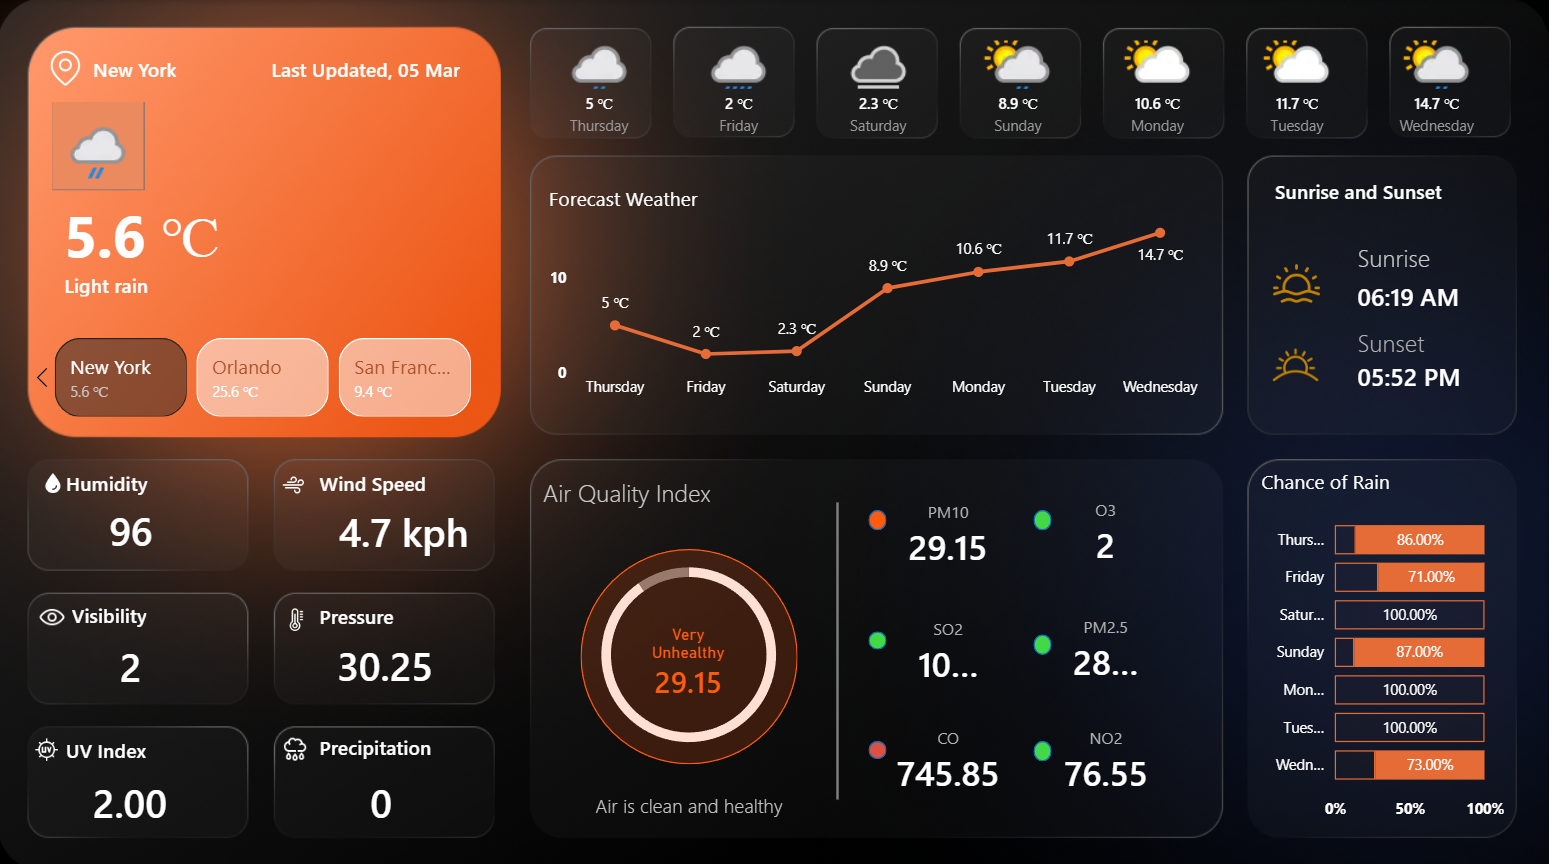

Layout of this report page (visuals, bound fields, positions):
{"tool":"powerbi","page":{"name":"Page 1","canvas":[1280,720],"ordinal":0},"visuals":[{"type":"donutChart","fields":{"Y":["_Measures.Left_value_PM10","Sum(Current.current.air_quality.pm10)"]},"box":[474.1,436.4,190,205.7],"z":0},{"type":"shape","box":[480.4,452.1,179,177.4],"z":1000},{"type":"advancedSlicerVisual","fields":{"Values":["Locations.location.name"]},"box":[22.7,272.6,393.7,75.7],"z":2000},{"type":"shape","box":[55.8,160.9,173.7,62.1],"z":3000},{"type":"shape","box":[55.8,223.1,210.3,20.7],"z":4000},{"type":"shape","box":[78.6,45.7,117.1,20],"z":5000},{"type":"image","box":[41.5,27.1,28.7,57.4],"z":6000},{"type":"shape","box":[225.7,45.7,174.3,20],"z":7000},{"type":"cardVisual","fields":{"Data":["Min(Current.current.condition.icon)"]},"box":[45.7,84.3,75.7,72.9],"z":8000},{"type":"image","box":[33.3,492.7,24,30.2],"z":9000},{"type":"shape","box":[61.5,492.7,64.6,27.1],"z":10000},{"type":"shape","box":[266,494,65,27],"z":11000},{"type":"shape","box":[266,602,95,27],"z":12000},{"type":"shape","box":[266,385,95,24],"z":13000},{"type":"shape","box":[57.3,384.4,72.9,27.1],"z":14000},{"type":"shape","box":[56.2,604.2,72.9,27.1],"z":15000},{"type":"image","box":[36.5,386.5,17.7,22.9],"z":16000},{"type":"image","box":[234.4,385.4,18.8,28.1],"z":17000},{"type":"image","box":[237.5,500,18.8,19.8],"z":18000},{"type":"image","box":[31,604,20,27],"z":19000},{"type":"image","box":[234,606,24,23],"z":20000},{"type":"advancedSlicerVisual","fields":{"Values":["Forcast_Day.Day_Name"]},"box":[437.1,27.1,810,102.9],"z":21000},{"type":"lineChart","title":"Forecast Weather","fields":{"Y":["Sum(Forcast_Day.forecast.forecastday.day.avgtemp_c)"],"Category":["Forcast_Day.Day_Name"]},"box":[450,151.7,550,185],"z":22000},{"type":"shape","box":[1052.4,140.8,165,31.8],"z":23000},{"type":"cardVisual","fields":{"Data":["Sum(Current.current.humidity)"]},"box":[75,414.8,105,41.6],"z":24000},{"type":"cardVisual","fields":{"Data":["_Measures.Wind_Speed"]},"box":[264.9,409.8,146.6,53.3],"z":25000},{"type":"cardVisual","fields":{"Data":["Sum(Current.current.vis_km)"]},"box":[83.7,522.8,77.4,50.5],"z":26000},{"type":"cardVisual","fields":{"Data":["Sum(Current.current.pressure_in)"]},"box":[263.2,523.1,118.3,50],"z":27000},{"type":"cardVisual","fields":{"Data":["Sum(Current.current.uv)"]},"box":[61.6,634.7,118.3,50],"z":28000},{"type":"cardVisual","fields":{"Data":["Sum(Current.current.precip_mm)"]},"box":[290.6,635,69.5,49],"z":29000},{"type":"shape","box":[1121.2,223.2,96.6,41.6],"z":30000},{"type":"shape","box":[1121.2,291.5,96.6,36.7],"z":31000},{"type":"shape","box":[1121.2,191.6,91.6,41.6],"z":32000},{"type":"shape","box":[1121.2,264.9,91.6,35],"z":33000},{"type":"image","box":[1037.3,275,65.6,50],"z":34000},{"type":"image","box":[1048.3,214,45.3,39.1],"z":35000},{"type":"hundredPercentStackedBarChart","title":"Chance of Rain","fields":{"Y":["Current.Left_value_Rain","Sum(Forcast_Day.forecast.forecastday.day.daily_chance_of_rain)"],"Category":["Forcast_Day.Day_Name"]},"box":[1037.3,385.9,209.3,298.4],"z":36000},{"type":"shape","box":[449.9,384.3,165.6,42.2],"z":37000},{"type":"cardVisual","fields":{"Data":["Sum(Current.current.air_quality.pm10)"]},"box":[730,406.6,106.8,67.5],"z":38000},{"type":"cardVisual","fields":{"Data":["Sum(Current.current.air_quality.o3)"]},"box":[868.7,405.9,89.3,66.6],"z":39000},{"type":"cardVisual","fields":{"Data":["Sum(Current.current.air_quality.so2)"]},"box":[738.8,503.3,89.3,66.6],"z":40000},{"type":"cardVisual","fields":{"Data":["Sum(Current.current.air_quality.co)"]},"box":[717.7,592.6,131.5,66.6],"z":41000},{"type":"cardVisual","fields":{"Data":["Sum(Current.current.air_quality.pm2_5)"]},"box":[868.7,501.7,89.3,66.6],"z":42000},{"type":"cardVisual","fields":{"Data":["Sum(Current.current.air_quality.no2)"]},"box":[860.6,592.6,107.2,66.6],"z":43000},{"type":"shape","box":[718,419.6,14.9,16.8],"z":44000},{"type":"shape","box":[718,609.9,14.9,14.9],"z":45000},{"type":"shape","box":[718,520.3,14.9,14.9],"z":46000},{"type":"shape","box":[854.2,419.6,14.9,16.8],"z":47000},{"type":"shape","box":[854.2,609.9,14.9,16.8],"z":48000},{"type":"shape","box":[854.2,522.2,14.9,16.8],"z":49000},{"type":"shape","box":[667.2,414.5,50.2,244.9],"z":50000},{"type":"cardVisual","fields":{"Data":["Sum(Current.current.air_quality.pm10)"]},"box":[524.4,514.9,91.1,65.9],"z":51000},{"type":"shape","box":[465.7,642.9,208.6,41.4],"z":52000}]}

Visuals, with their boxes in screenshot pixels (x1, y1, x2, y2), scaled from the page's 1280x720 canvas onto the 1549x864 screenshot:
donutChart - _Measures.Left_value_PM10 x Sum(Current.current.air_quality.pm10): box(574, 524, 804, 771)
shape: box(581, 543, 798, 755)
advancedSlicerVisual - Locations.location.name: box(27, 327, 504, 418)
shape: box(68, 193, 278, 268)
shape: box(68, 268, 322, 293)
shape: box(95, 55, 237, 79)
image: box(50, 33, 85, 101)
shape: box(273, 55, 484, 79)
cardVisual - Min(Current.current.condition.icon): box(55, 101, 147, 189)
image: box(40, 591, 69, 627)
shape: box(74, 591, 153, 624)
shape: box(322, 593, 401, 625)
shape: box(322, 722, 437, 755)
shape: box(322, 462, 437, 491)
shape: box(69, 461, 158, 494)
shape: box(68, 725, 156, 758)
image: box(44, 464, 66, 491)
image: box(284, 462, 306, 496)
image: box(287, 600, 310, 624)
image: box(38, 725, 62, 757)
image: box(283, 727, 312, 755)
advancedSlicerVisual - Forcast_Day.Day_Name: box(529, 33, 1509, 156)
"Forecast Weather" lineChart: box(545, 182, 1210, 404)
shape: box(1274, 169, 1473, 207)
cardVisual - Sum(Current.current.humidity): box(91, 498, 218, 548)
cardVisual - _Measures.Wind_Speed: box(321, 492, 498, 556)
cardVisual - Sum(Current.current.vis_km): box(101, 627, 195, 688)
cardVisual - Sum(Current.current.pressure_in): box(319, 628, 462, 688)
cardVisual - Sum(Current.current.uv): box(75, 762, 218, 822)
cardVisual - Sum(Current.current.precip_mm): box(352, 762, 436, 821)
shape: box(1357, 268, 1474, 318)
shape: box(1357, 350, 1474, 394)
shape: box(1357, 230, 1468, 280)
shape: box(1357, 318, 1468, 360)
image: box(1255, 330, 1335, 390)
image: box(1269, 257, 1323, 304)
"Chance of Rain" hundredPercentStackedBarChart: box(1255, 463, 1509, 821)
shape: box(544, 461, 745, 512)
cardVisual - Sum(Current.current.air_quality.pm10): box(883, 488, 1013, 569)
cardVisual - Sum(Current.current.air_quality.o3): box(1051, 487, 1159, 567)
cardVisual - Sum(Current.current.air_quality.so2): box(894, 604, 1002, 684)
cardVisual - Sum(Current.current.air_quality.co): box(869, 711, 1028, 791)
cardVisual - Sum(Current.current.air_quality.pm2_5): box(1051, 602, 1159, 682)
cardVisual - Sum(Current.current.air_quality.no2): box(1041, 711, 1171, 791)
shape: box(869, 504, 887, 524)
shape: box(869, 732, 887, 750)
shape: box(869, 624, 887, 642)
shape: box(1034, 504, 1052, 524)
shape: box(1034, 732, 1052, 752)
shape: box(1034, 627, 1052, 647)
shape: box(807, 497, 868, 791)
cardVisual - Sum(Current.current.air_quality.pm10): box(635, 618, 745, 697)
shape: box(564, 771, 816, 821)
